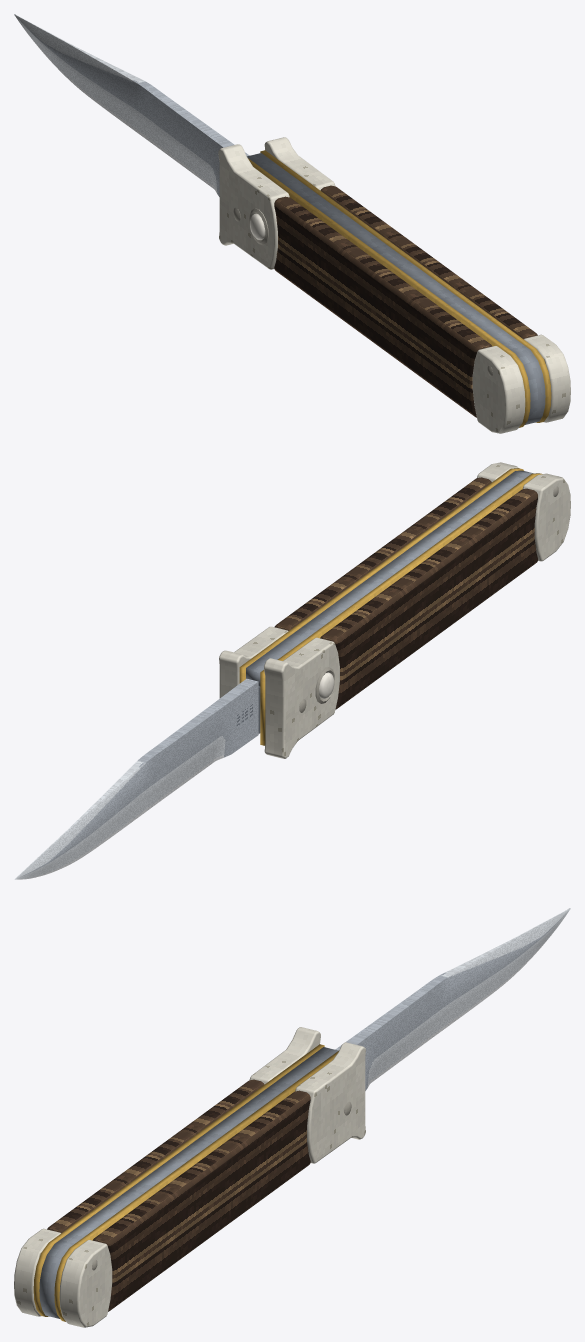
Rendered from w_knife_switch.glb.
The picture shows the model from 3 angles, top to bottom: view 1: azimuth 30°, elevation 25°; view 2: azimuth 150°, elevation 25°; view 3: azimuth 330°, elevation 25°; orthographic projection.
Parts seen in each view (by area): view 1: kswitch_handle_wzA, kswitch_blade_wzB, kswitch_pins_wzN; view 2: kswitch_handle_wzA, kswitch_blade_wzB, kswitch_pins_wzN; view 3: kswitch_handle_wzA, kswitch_blade_wzB.
Boxes of the visible parts, x1=… form: kswitch_handle_wzA: x1=218, y1=137, x2=570, y2=433; kswitch_blade_wzB: x1=14, y1=14, x2=249, y2=196; kswitch_pins_wzN: x1=233, y1=207, x2=492, y2=376; kswitch_handle_wzA: x1=219, y1=462, x2=570, y2=758; kswitch_blade_wzB: x1=14, y1=678, x2=260, y2=879; kswitch_pins_wzN: x1=299, y1=486, x2=558, y2=712; kswitch_handle_wzA: x1=14, y1=1027, x2=365, y2=1327; kswitch_blade_wzB: x1=335, y1=908, x2=570, y2=1090.
Size of the model in its own units: 0.0183 by 0.0228 by 0.227.
7 materials, 7 textured.
